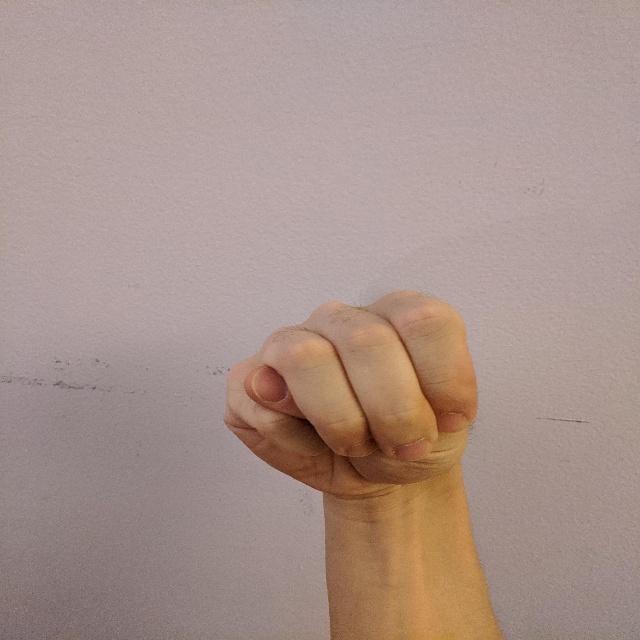M: (215, 285, 493, 498)
